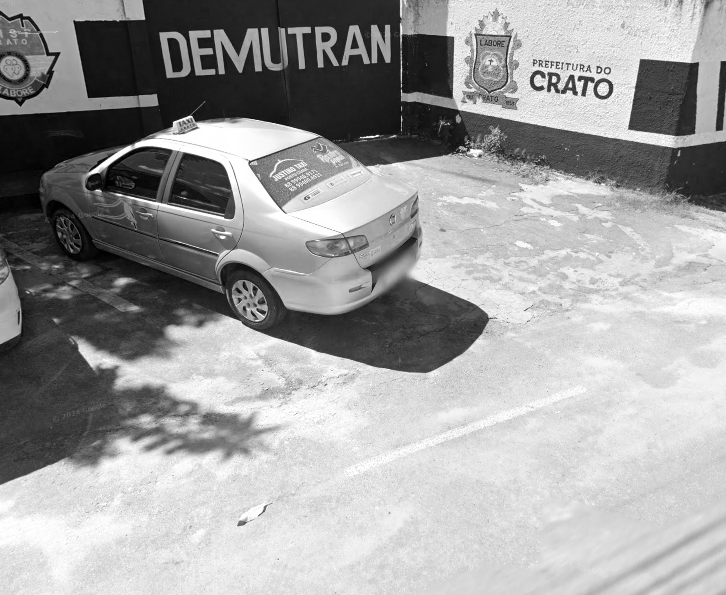car: (29, 102, 465, 339)
